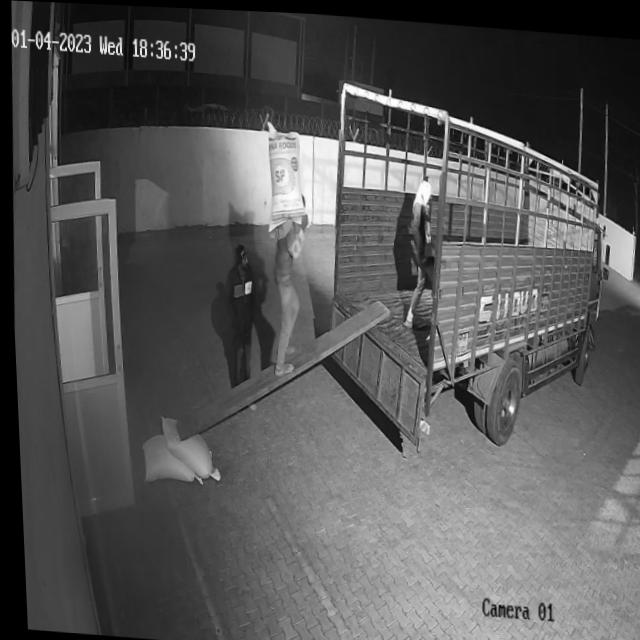sack: (261, 116, 307, 233), (154, 413, 217, 479), (136, 431, 200, 483)
